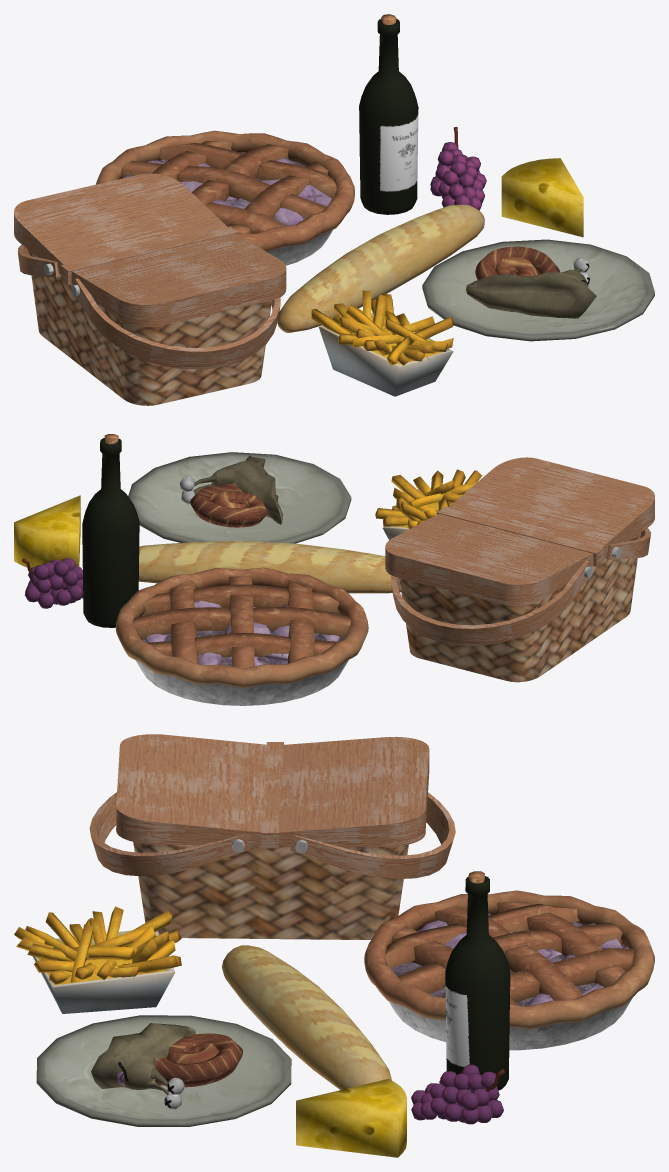
Rendered from french_picnic.glb.
3 views of the same model, one above another, from view 1: azimuth 30°, elevation 25°; view 2: azimuth 150°, elevation 25°; view 3: azimuth 270°, elevation 25° (orthographic). The views are drawn at different scales.
Visible parts, largest first — view 1: Cylinder, escargot, fishPie, baguette, frenchFries, wine, cheese, grapes; view 2: Cylinder, fishPie, escargot, baguette, wine, cheese, frenchFries, grapes; view 3: Cylinder, fishPie, escargot, frenchFries, baguette, wine, cheese, grapes.
Part boxes in pixels (bbox=[...]): Cylinder: bbox=[14, 173, 286, 405]; escargot: bbox=[422, 239, 654, 341]; fishPie: bbox=[96, 130, 354, 265]; baguette: bbox=[277, 204, 484, 332]; frenchFries: bbox=[311, 290, 454, 396]; wine: bbox=[359, 14, 418, 214]; cheese: bbox=[501, 158, 583, 237]; grapes: bbox=[430, 127, 486, 210]; Cylinder: bbox=[385, 457, 654, 682]; fishPie: bbox=[115, 567, 368, 705]; escargot: bbox=[128, 452, 351, 543]; baguette: bbox=[138, 541, 401, 593]; wine: bbox=[82, 434, 139, 627]; cheese: bbox=[14, 495, 80, 568]; frenchFries: bbox=[375, 469, 482, 539]; grapes: bbox=[22, 558, 83, 608]; Cylinder: bbox=[89, 734, 455, 939]; fishPie: bbox=[364, 890, 654, 1050]; escargot: bbox=[36, 1015, 291, 1126]; frenchFries: bbox=[14, 906, 181, 1013]; baguette: bbox=[222, 945, 391, 1089]; wine: bbox=[445, 871, 510, 1090]; cheese: bbox=[296, 1079, 406, 1157]; grapes: bbox=[411, 1064, 504, 1124].
Size of what is drawn, in the model's own units: 17.34 by 5.82 by 15.56.
8 materials, 8 textured.
